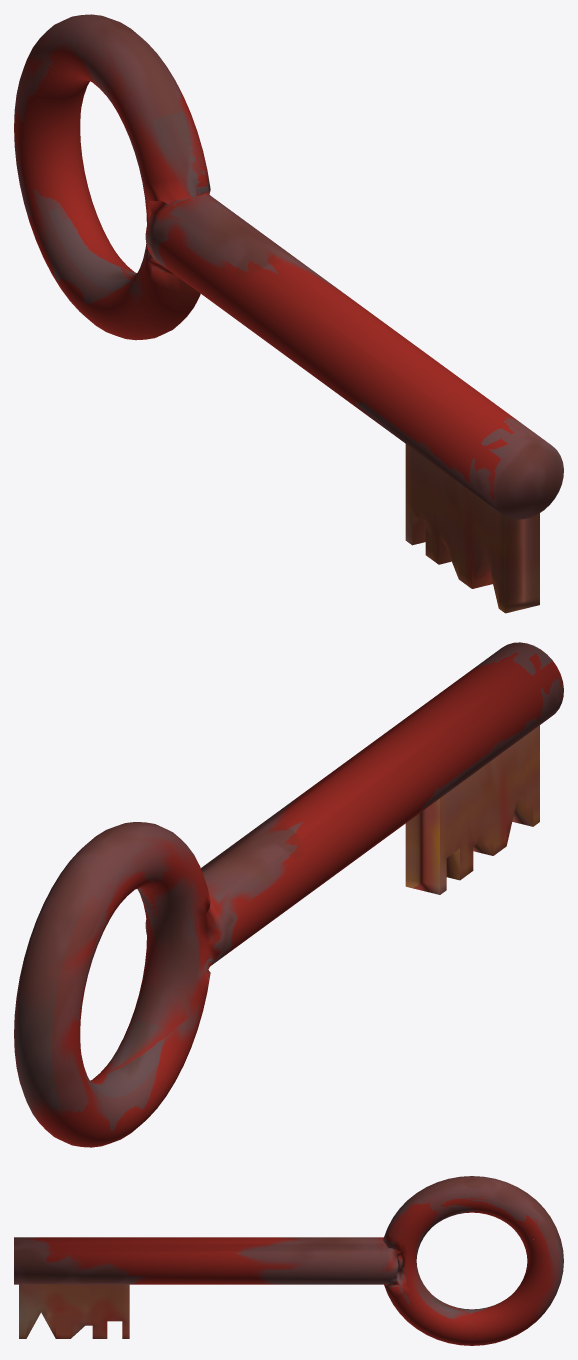
The model's file is keyred.fbx.
The picture shows the model from 3 angles, top to bottom: view 1: azimuth 30°, elevation 25°; view 2: azimuth 150°, elevation 25°; view 3: azimuth 270°, elevation 25°; orthographic projection. The views are drawn at different scales.
Visible parts, largest first — view 1: Torus.001, Cube.001; view 2: Torus.001, Cube.001; view 3: Torus.001, Cube.001.
Part boxes in pixels (left/top/right/bottom): Torus.001: left=14, top=14, right=563, bottom=519; Cube.001: left=405, top=444, right=539, bottom=613; Torus.001: left=14, top=642, right=563, bottom=1147; Cube.001: left=405, top=725, right=539, bottom=894; Torus.001: left=14, top=1176, right=563, bottom=1345; Cube.001: left=19, top=1284, right=129, bottom=1338.
Size of the model in its own units: 21.29 by 83.25 by 249.
Materials: 2 (2 with a texture image).
